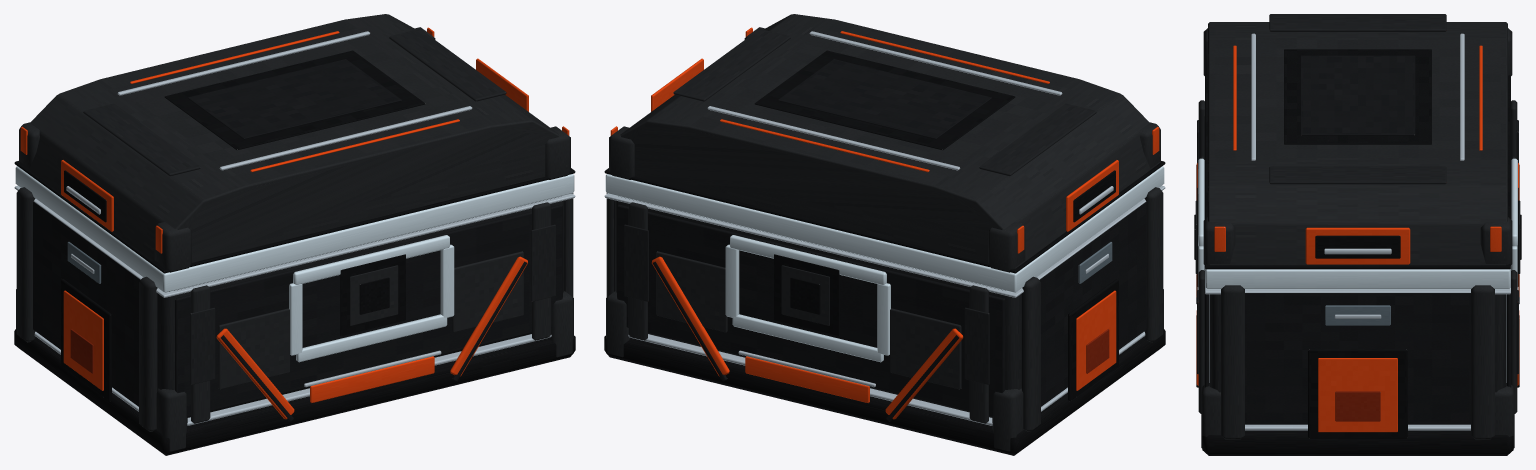
File: GlossyAngularCase.glb
The picture shows the model from 3 angles, left to right: view 1: azimuth 30°, elevation 25°; view 2: azimuth 150°, elevation 25°; view 3: azimuth 270°, elevation 25°; orthographic projection. The views are drawn at different scales.
Visible parts, largest first — view 1: GlossyAngularBlackOrangeCase; view 2: GlossyAngularBlackOrangeCase; view 3: GlossyAngularBlackOrangeCase.
Boxes of the visible parts, left/top/right/bottom form: GlossyAngularBlackOrangeCase: left=14, top=14, right=575, bottom=455; GlossyAngularBlackOrangeCase: left=604, top=14, right=1165, bottom=455; GlossyAngularBlackOrangeCase: left=1194, top=14, right=1521, bottom=455.
Size of the model in its own units: 7.83 by 4.46 by 5.08.
1 material, 1 textured.
